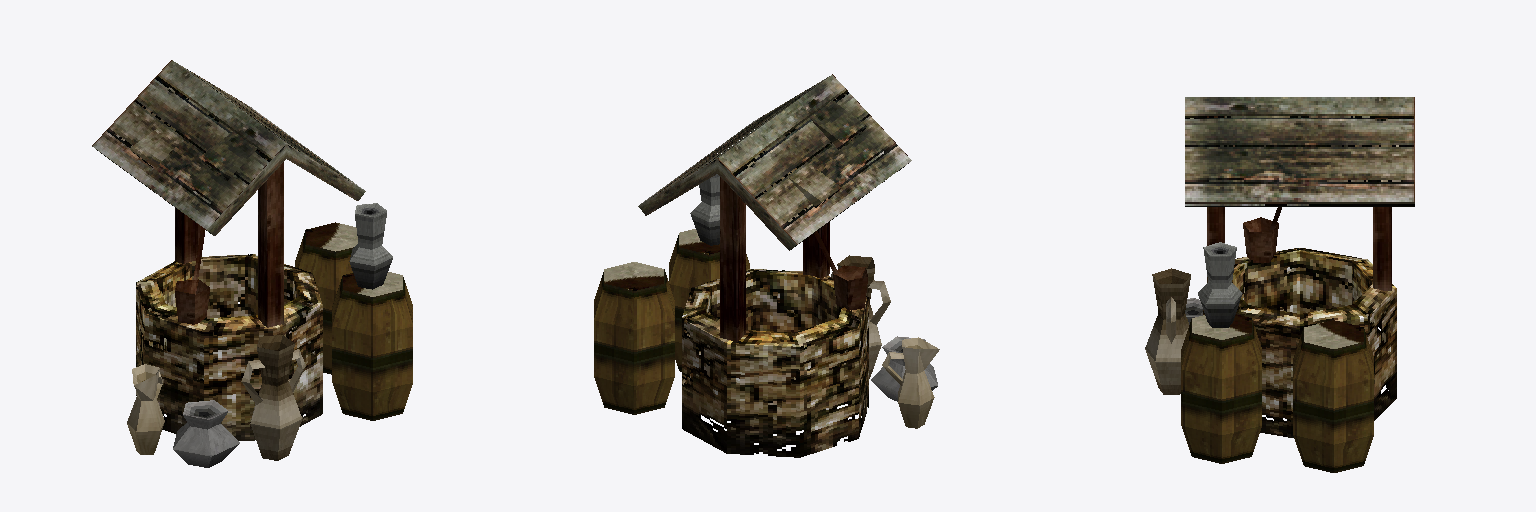
The picture shows the model from 3 angles: view 1: azimuth 30°, elevation 25°; view 2: azimuth 150°, elevation 25°; view 3: azimuth 270°, elevation 25°; orthographic projection.
Parts seen in each view (by area): view 1: Mesh_2, Mesh_3, Mesh_0, Mesh_1; view 2: Mesh_2, Mesh_0, Mesh_3, Mesh_1; view 3: Mesh_2, Mesh_0, Mesh_3, Mesh_1.
Boxes of the visible parts, box(x1,y1,x2,y2) form: Mesh_2: box(92, 60, 365, 440); Mesh_3: box(127, 203, 392, 467); Mesh_0: box(295, 229, 412, 420); Mesh_1: box(306, 222, 402, 296); Mesh_2: box(638, 74, 911, 457); Mesh_0: box(594, 235, 749, 414); Mesh_3: box(690, 174, 939, 428); Mesh_1: box(604, 229, 719, 290); Mesh_2: box(1185, 97, 1414, 437); Mesh_0: box(1181, 319, 1373, 472); Mesh_3: box(1145, 242, 1242, 394); Mesh_1: box(1192, 314, 1363, 348).
Bounding box in the file's own units: 2.76 × 2.71 × 2.19.
Materials: 4 (4 with a texture image).